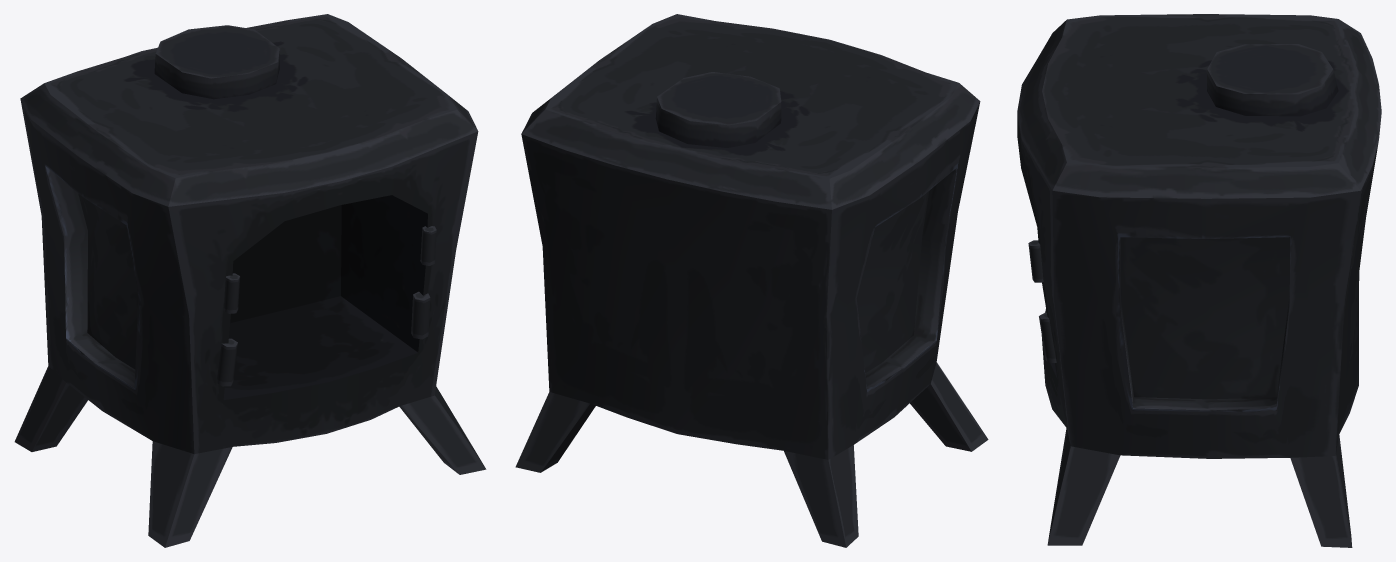
File: SM_PROP_stove_interior.fbx
3 views of the same model, side by side, from view 1: azimuth 30°, elevation 25°; view 2: azimuth 150°, elevation 25°; view 3: azimuth 270°, elevation 25° (orthographic). The views are drawn at different scales.
Visible parts, largest first — view 1: SM_PROP_stove_interior; view 2: SM_PROP_stove_interior; view 3: SM_PROP_stove_interior.
Part boxes in pixels (bbox=[...]): SM_PROP_stove_interior: bbox=[14, 14, 486, 547]; SM_PROP_stove_interior: bbox=[515, 14, 988, 547]; SM_PROP_stove_interior: bbox=[1017, 14, 1381, 547].
Size of what is drawn, in the model's own units: 86.24 by 91.3 by 76.39.
